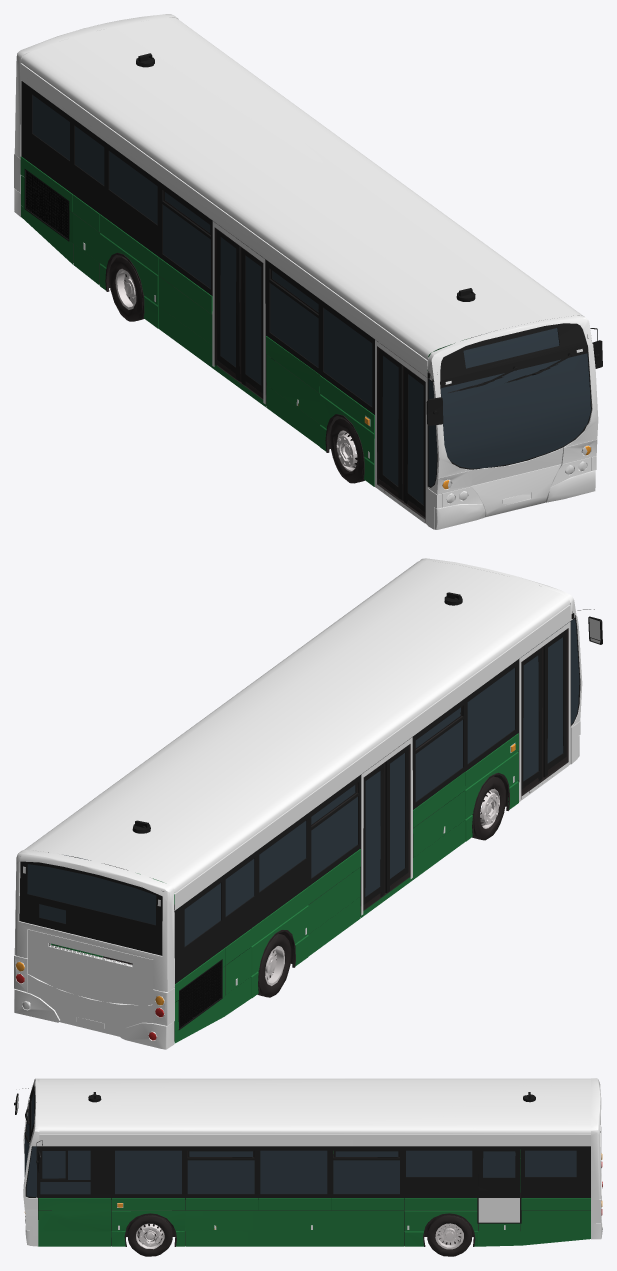
Rendered from bus.glb.
3 views of the same model, one above another, from view 1: azimuth 30°, elevation 25°; view 2: azimuth 150°, elevation 25°; view 3: azimuth 270°, elevation 25° (orthographic). The views are drawn at different scales.
Visible parts, largest first — view 1: Object_213, Object_18, Object_16, mesh_262, Object_6, Object_22, Object_217, Object_143; view 2: Object_213, Object_18, Object_16, mesh_262, Object_6, Object_217, Object_143, Object_22, Object_211; view 3: Object_213, mesh_262, Object_18, Object_16, Object_6, Object_143, Object_211, Object_22.
Part boxes in pixels (left/top/right/bottom): Object_213: left=14, top=14, right=598, bottom=529; Object_18: left=32, top=95, right=590, bottom=504; Object_16: left=21, top=81, right=591, bottom=512; mesh_262: left=20, top=156, right=469, bottom=486; Object_6: left=105, top=191, right=481, bottom=517; Object_22: left=24, top=53, right=602, bottom=425; Object_217: left=26, top=171, right=68, bottom=239; Object_143: left=115, top=268, right=357, bottom=471; Object_213: left=14, top=558, right=582, bottom=1049; Object_18: left=27, top=618, right=579, bottom=946; Object_16: left=19, top=615, right=580, bottom=983; mesh_262: left=51, top=733, right=518, bottom=1043; Object_6: left=257, top=628, right=568, bottom=997; Object_217: left=49, top=943, right=221, bottom=1027; Object_143: left=265, top=788, right=499, bottom=985; Object_22: left=132, top=592, right=602, bottom=1029; Object_211: left=102, top=748, right=568, bottom=1041; Object_213: left=23, top=1078, right=602, bottom=1246; mesh_262: left=38, top=1149, right=590, bottom=1246; Object_18: left=24, top=1092, right=576, bottom=1196; Object_16: left=24, top=1085, right=600, bottom=1223; Object_6: left=28, top=1106, right=475, bottom=1256; Object_143: left=136, top=1223, right=463, bottom=1249; Object_211: left=38, top=1193, right=590, bottom=1245; Object_22: left=14, top=1088, right=535, bottom=1172.
Bounding box in the file's own units: 3.05 × 3.08 × 12.
